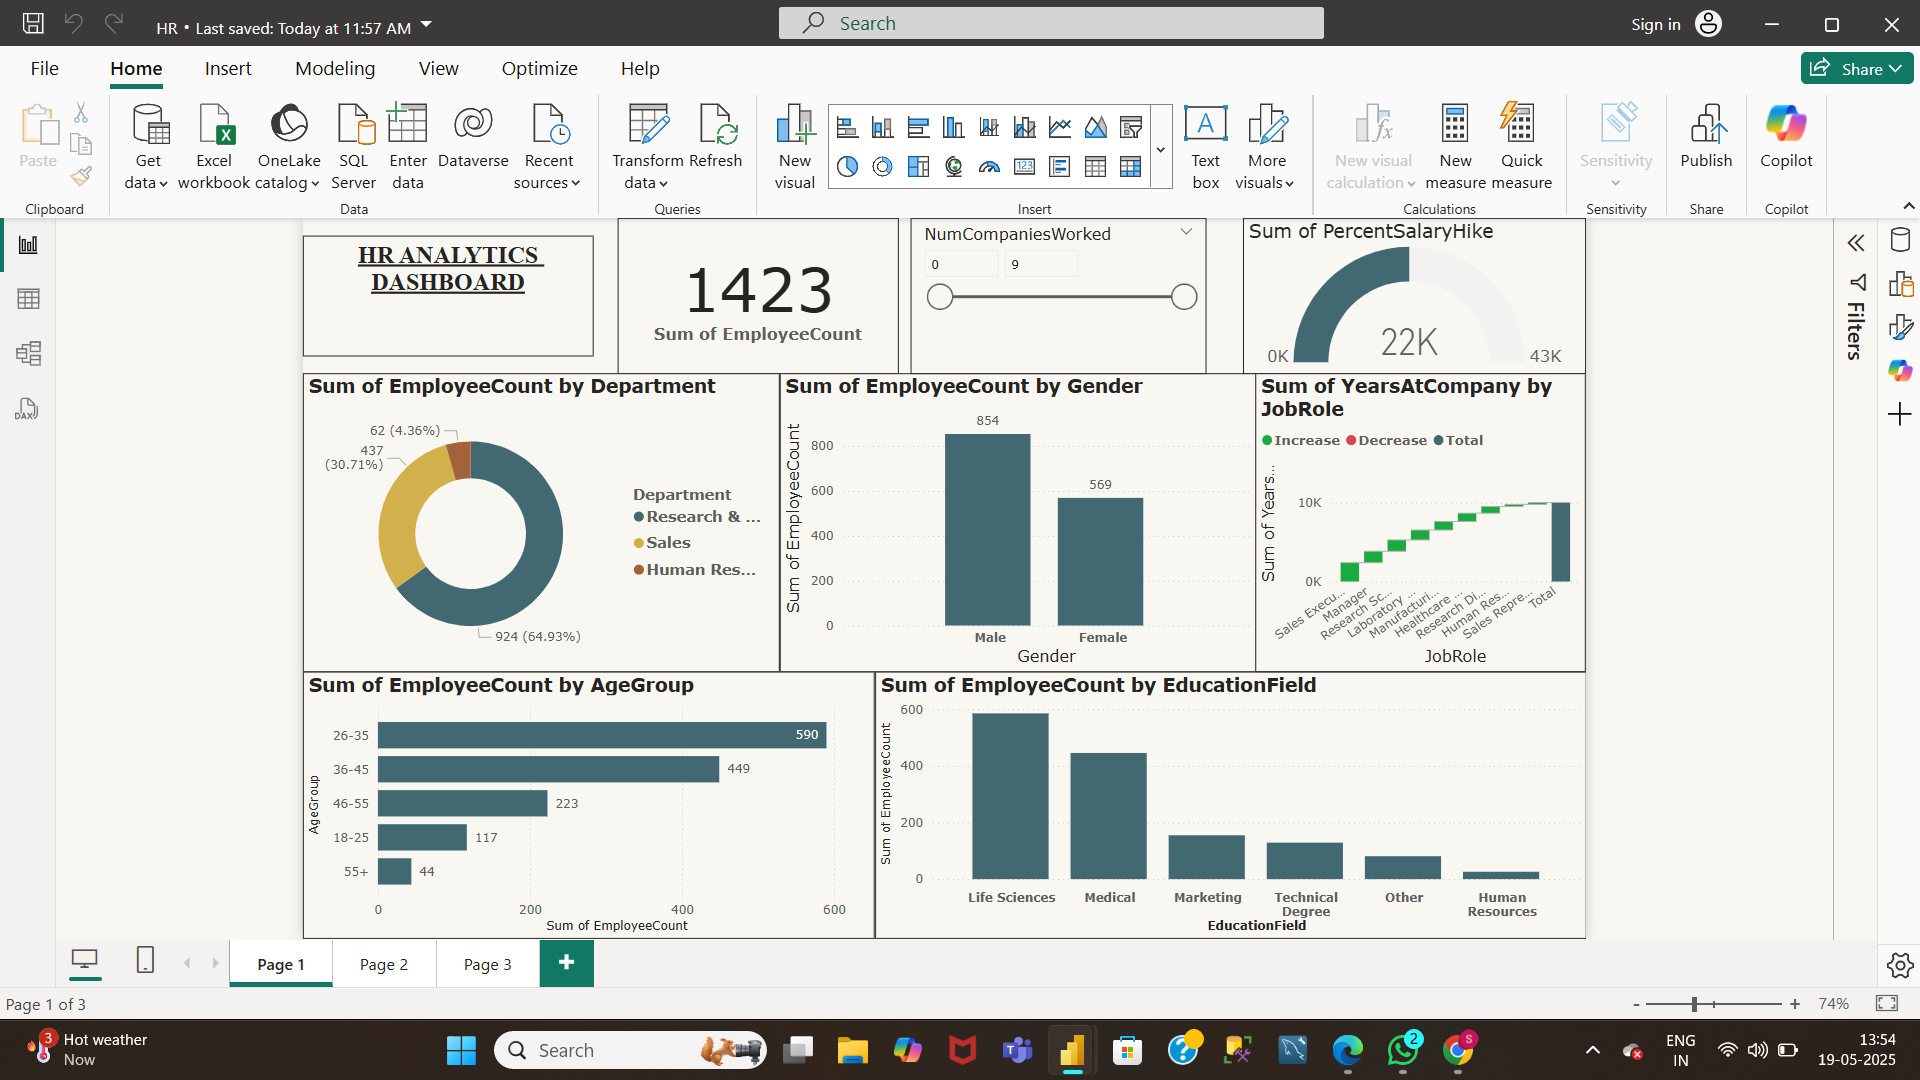

This screenshot's page, from the dashboard's own definition file:
{"tool":"powerbi","page":{"name":"Page 1","canvas":[1280,720],"ordinal":0},"visuals":[{"type":"card","fields":{"Values":["Sum(HR_Analytics.EmployeeCount)"]},"box":[313.8,0,280.5,155.3],"z":0},{"type":"donutChart","fields":{"Y":["Sum(HR_Analytics.EmployeeCount)"],"Category":["HR_Analytics.Department"]},"box":[0,155.3,475.4,297.9],"z":1000},{"type":"columnChart","fields":{"Category":["HR_Analytics.Gender"],"Y":["Sum(HR_Analytics.EmployeeCount)"]},"box":[475.4,155.3,475.4,297.9],"z":2000},{"type":"clusteredBarChart","fields":{"Y":["Sum(HR_Analytics.EmployeeCount)"],"Category":["HR_Analytics.AgeGroup"]},"box":[0,453.2,570.5,266.2],"z":3000},{"type":"columnChart","fields":{"Category":["HR_Analytics.EducationField"],"Y":["Sum(HR_Analytics.EmployeeCount)"]},"box":[570.5,453.2,710,266.2],"z":4000},{"type":"waterfallChart","fields":{"Category":["HR_Analytics.JobRole"],"Y":["Divide(Sum(HR_Analytics.YearsAtCompany), ScopedEval(Sum(HR_Analytics.YearsAtCompany), []))"]},"box":[950.8,155.3,329.6,297.9],"z":5000},{"type":"slicer","fields":{"Values":["HR_Analytics.NumCompaniesWorked"]},"box":[607,0,294.8,155.3],"z":6000},{"type":"gauge","fields":{"Y":["Sum(HR_Analytics.PercentSalaryHike)"]},"box":[938.2,0,342.3,155.3],"z":7000},{"type":"textbox","box":[0,17.4,290,120.4],"z":8000}]}

Visuals, with their boxes on the page's 1280x720 design canvas (x1, y1, x2, y2). These are canvas units, not pixel positions in the 1920x1080 screenshot, which may show the page scaled, cropped or inside an application window:
card - Sum(HR_Analytics.EmployeeCount): (x1=314, y1=0, x2=594, y2=155)
donutChart - Sum(HR_Analytics.EmployeeCount) x HR_Analytics.Department: (x1=0, y1=155, x2=475, y2=453)
columnChart - HR_Analytics.Gender x Sum(HR_Analytics.EmployeeCount): (x1=475, y1=155, x2=951, y2=453)
clusteredBarChart - Sum(HR_Analytics.EmployeeCount) x HR_Analytics.AgeGroup: (x1=0, y1=453, x2=570, y2=719)
columnChart - HR_Analytics.EducationField x Sum(HR_Analytics.EmployeeCount): (x1=570, y1=453, x2=1280, y2=719)
waterfallChart - HR_Analytics.JobRole x Divide(Sum(HR_Analytics.YearsAtCompany), ScopedEval(Sum(HR_Analytics.YearsAtCompany), [])): (x1=951, y1=155, x2=1280, y2=453)
slicer - HR_Analytics.NumCompaniesWorked: (x1=607, y1=0, x2=902, y2=155)
gauge - Sum(HR_Analytics.PercentSalaryHike): (x1=938, y1=0, x2=1280, y2=155)
textbox: (x1=0, y1=17, x2=290, y2=138)
